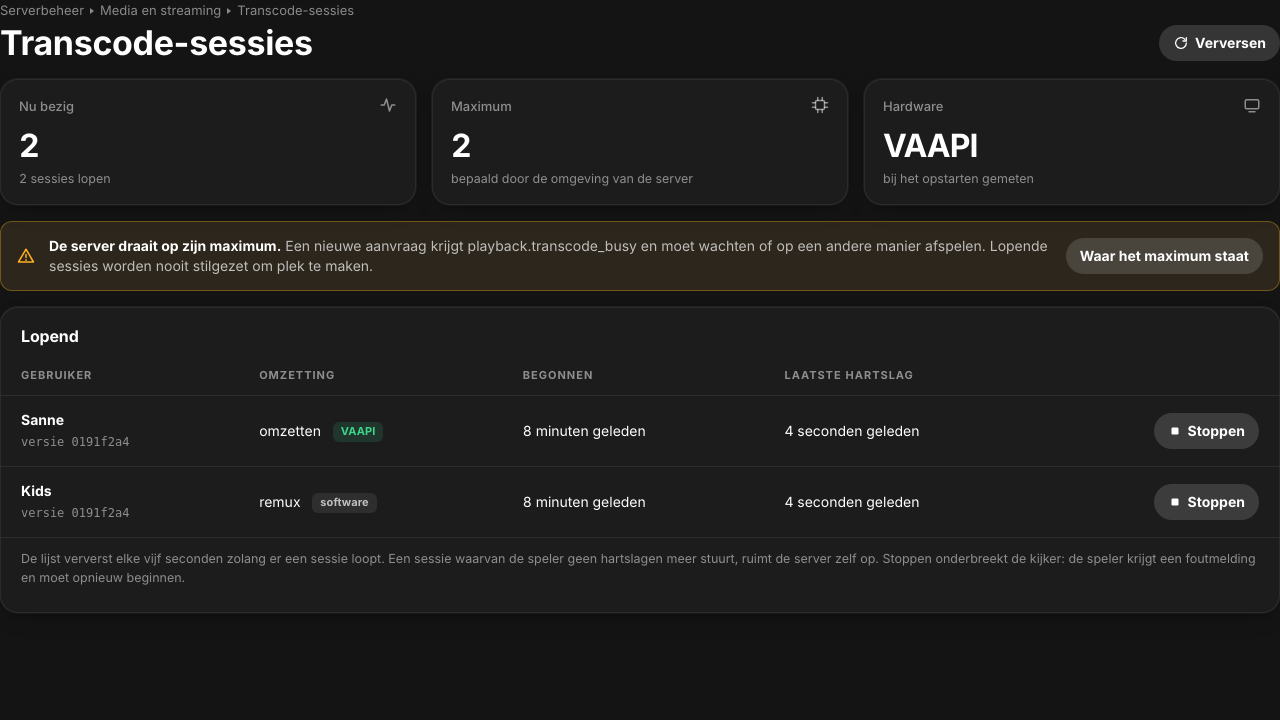
Test: scherm 37, Stoppen › legt uit dat de sessie al weg is en leest dan wel de lijst opnieuw
This screenshot has width=1280, height=720.
Click the button with aria-label "Transcodesessie van Sanne stoppen".
click(1206, 431)  # box [1154,413,1259,449]
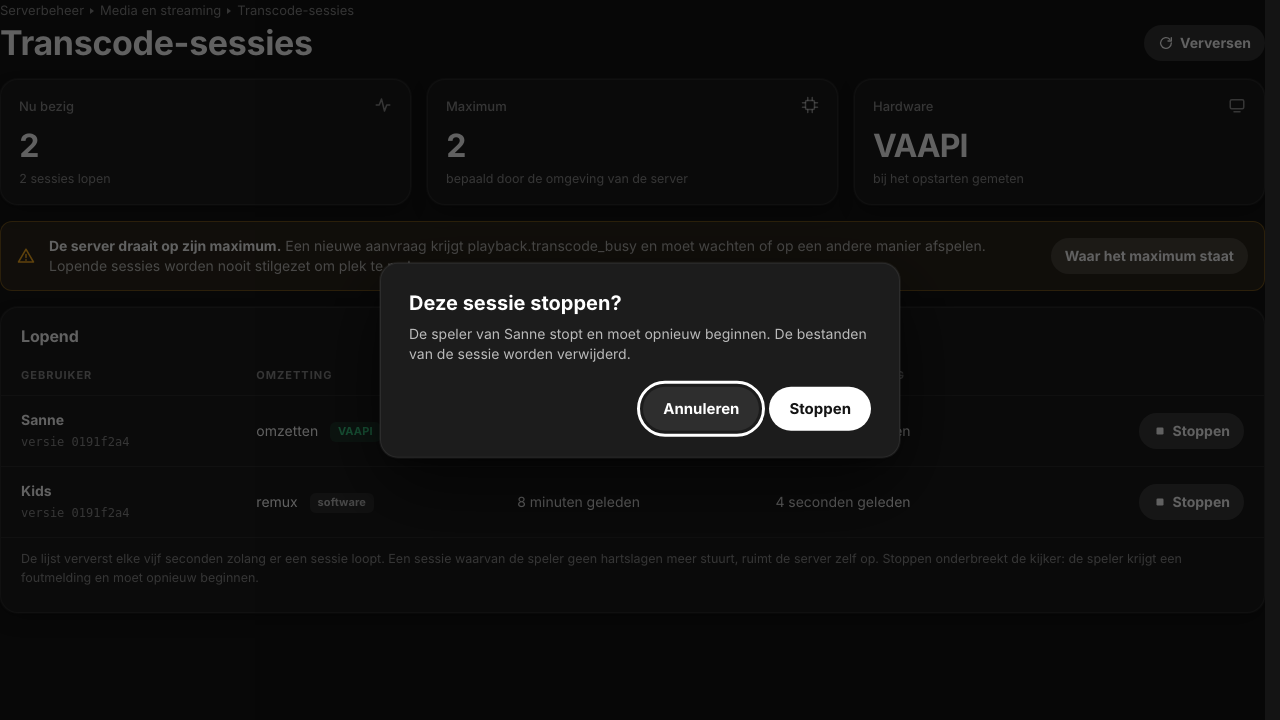
Click the button "Stoppen".
click(820, 408)  # box [769,386,871,430]
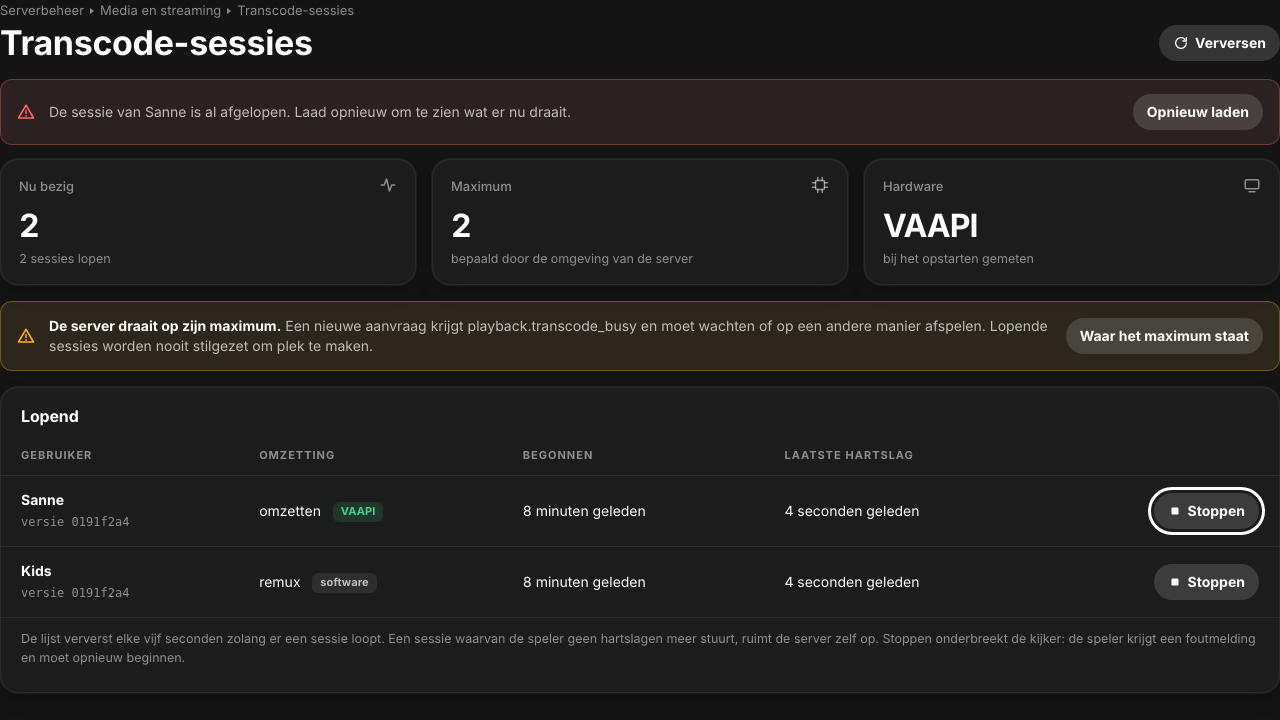
Expected: the 1st message shows "De sessie van Sanne is al afgelopen", [49,103,571,120]
